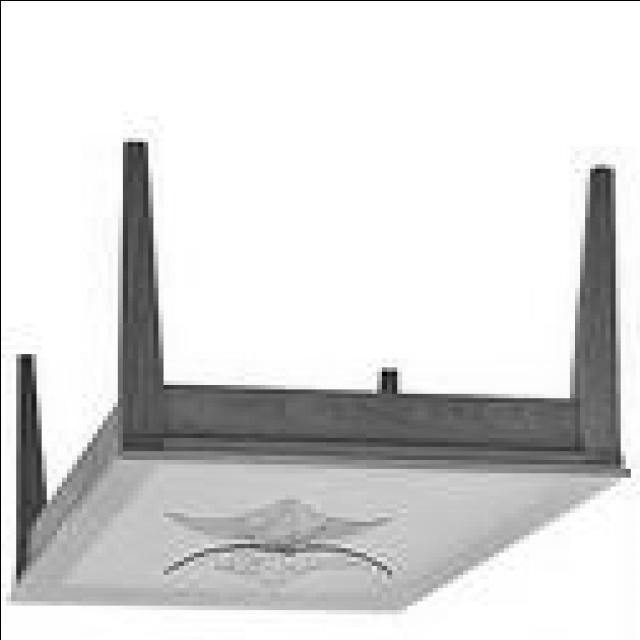table: (10, 137, 628, 611)
